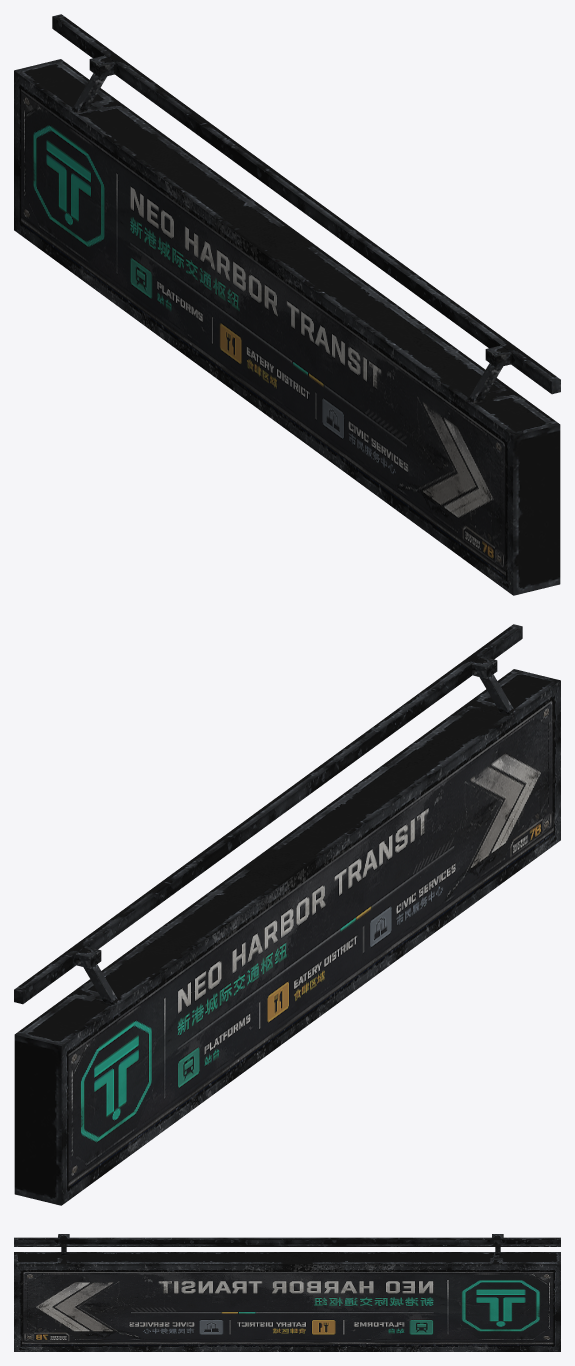
Rendered from CP_Signboard_03.fbx.
The picture shows the model from 3 angles, top to bottom: view 1: azimuth 30°, elevation 25°; view 2: azimuth 150°, elevation 25°; view 3: azimuth 270°, elevation 25°; orthographic projection. The views are drawn at different scales.
Parts seen in each view (by area): view 1: CP_Signboard_03; view 2: CP_Signboard_03; view 3: CP_Signboard_03.
Part boxes in pixels (<box>): CP_Signboard_03: <box>14,14,560,595</box>; CP_Signboard_03: <box>14,624,560,1205</box>; CP_Signboard_03: <box>14,1234,560,1351</box>.
Bounding box in the file's own units: 24.32 × 99.94 × 442.
